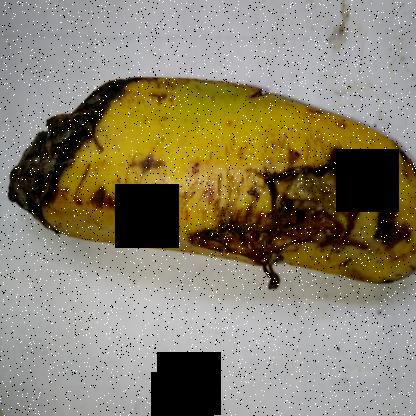ripe: (131, 58, 415, 318)
rotten: (180, 127, 401, 312), (8, 46, 146, 263)
